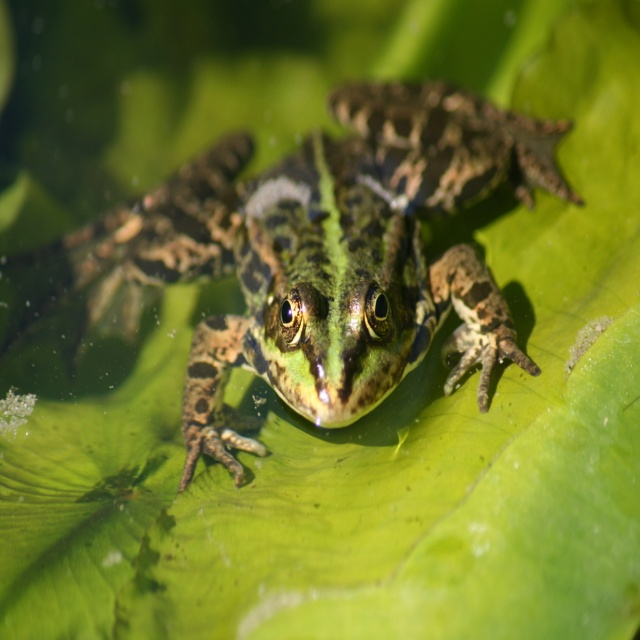Frog: (0, 76, 588, 498)
